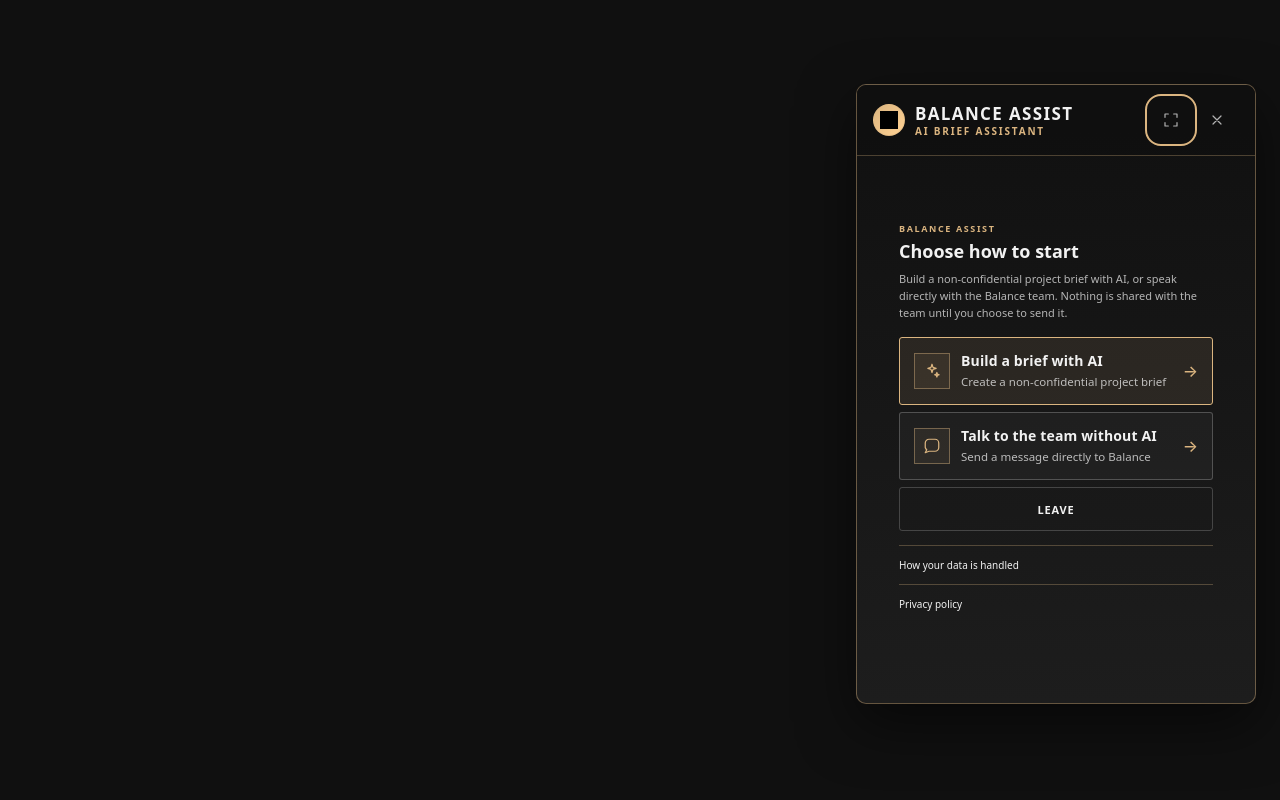
Scenario: WidgetOverlay accessibility › uses the transcript log as the only live announcement mechanism for transcript updates
Click the button "Build a brief with AI": (1056, 371) [899,337,1213,405]
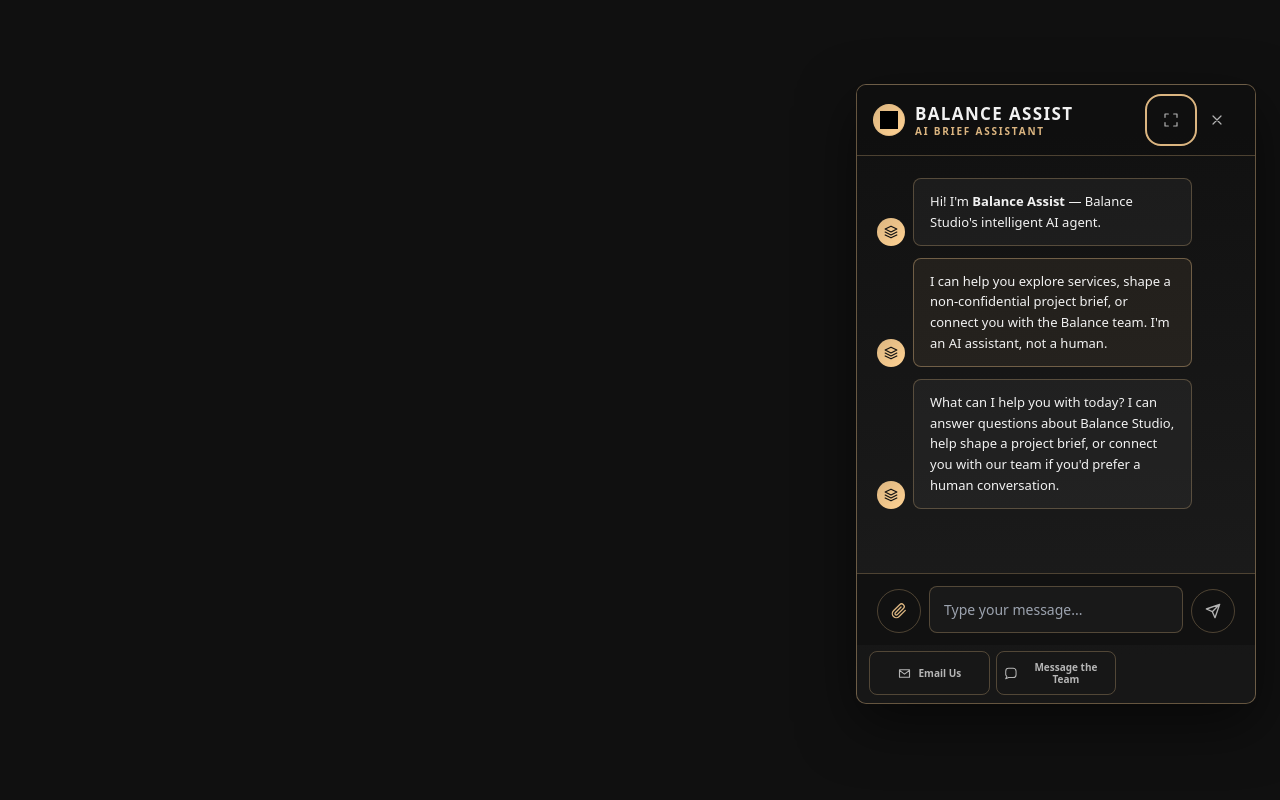
expect the element named "Conversation transcript" is shown: met, box [877,178,1235,509]
expect the text box named "Message Balance Assist" is shown: met, box [929,586,1183,633]
